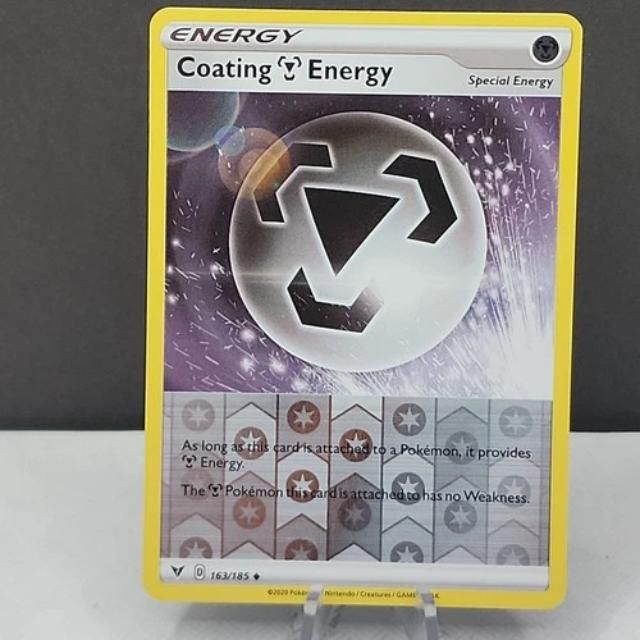Card: (135, 2, 589, 616)
Name: (170, 50, 407, 94)
